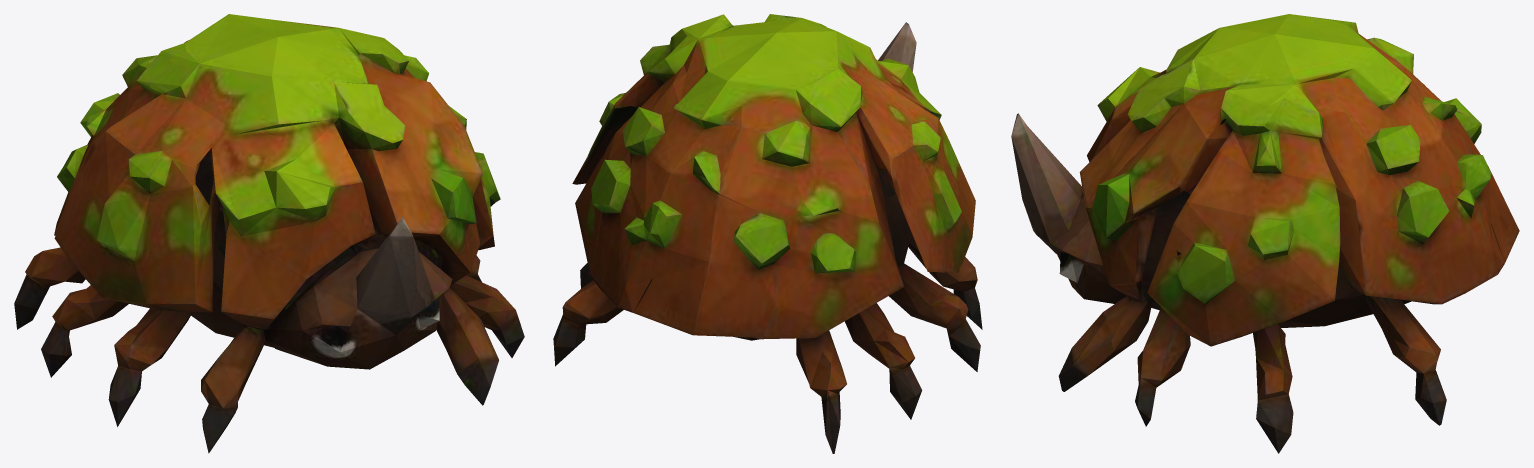
File: m_scarabee_ecorce.glb
The picture shows the model from 3 angles, left to right: view 1: azimuth 30°, elevation 25°; view 2: azimuth 150°, elevation 25°; view 3: azimuth 270°, elevation 25°; orthographic projection. The views are drawn at different scales.
Visible parts, largest first — view 1: geometry_0; view 2: geometry_0; view 3: geometry_0.
Part boxes in pixels (x1,y1,x2,y2): geometry_0: [14, 14, 524, 453]; geometry_0: [553, 14, 982, 453]; geometry_0: [1011, 14, 1519, 453].
Bounding box in the file's own units: 0.8895 × 0.7048 × 0.9981.
Materials: 1 (1 with a texture image).
